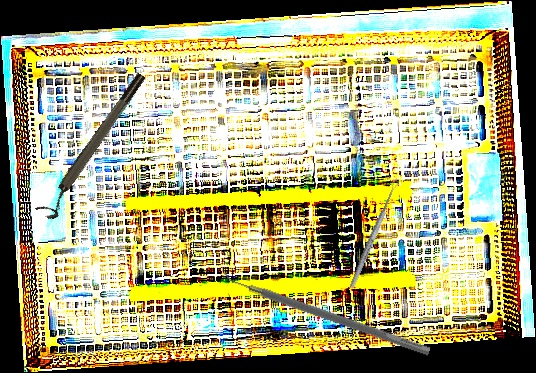Fixation Ring: (34, 70, 155, 223)
Spatula Surgical: (219, 265, 435, 357)
Surgical Spoon: (348, 177, 401, 290)
